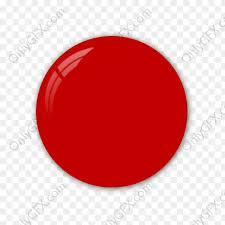red_circle: (37, 35, 188, 191)
